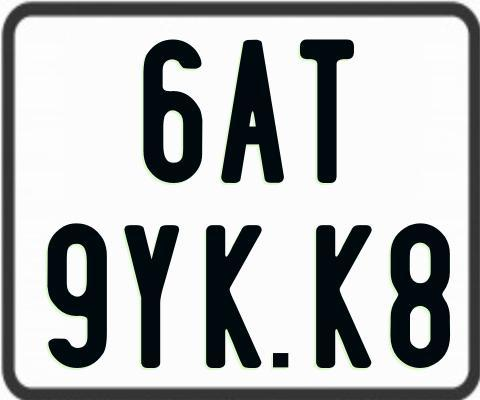6: (142, 38, 202, 187)
8: (389, 222, 451, 369)
9: (46, 222, 111, 369)
A: (220, 37, 285, 185)
K: (205, 224, 266, 367), (313, 223, 369, 366)
T: (299, 39, 354, 187)
Y: (122, 223, 177, 372)
